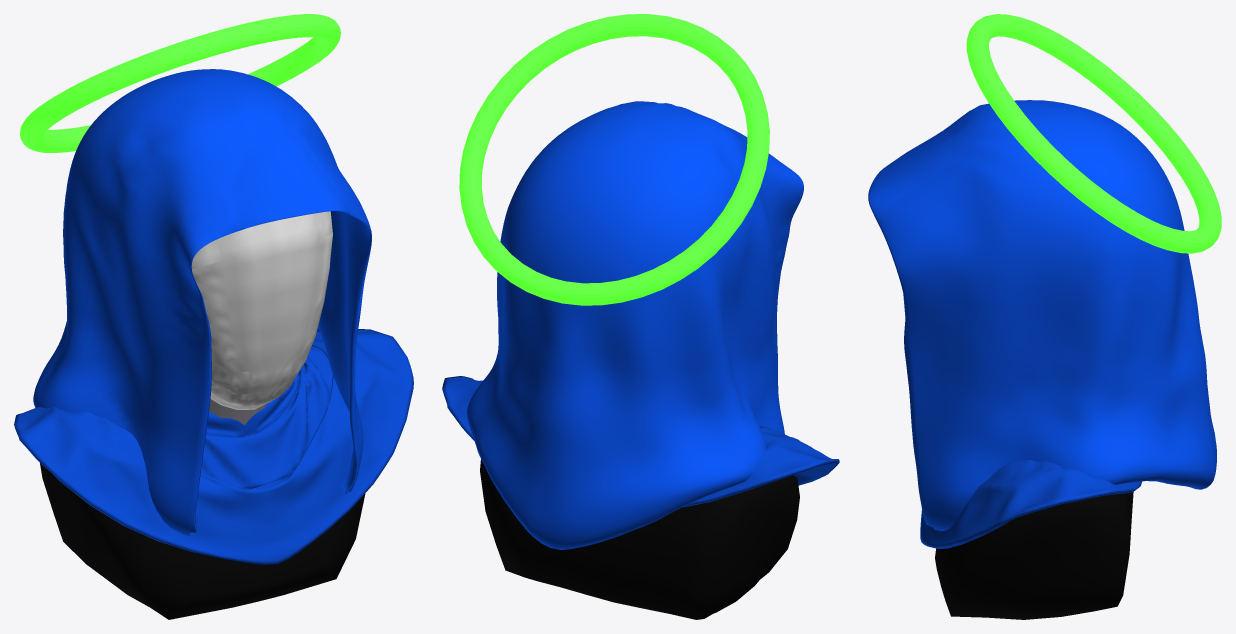
File: framedOurLady.glb
3 views of the same model, side by side, from view 1: azimuth 30°, elevation 25°; view 2: azimuth 150°, elevation 25°; view 3: azimuth 270°, elevation 25° (orthographic). The views are drawn at different scales.
Parts seen in each view (by area): view 1: headwear, face, bust, Halo, neck; view 2: headwear, bust, Halo; view 3: headwear, bust, Halo.
Boxes of the visible parts, x1,y1,x2,y2 form: headwear: (14,69,413,564); face: (191,211,332,409); bust: (40,463,365,619); Halo: (20,14,340,152); neck: (209,399,266,424); headwear: (442,101,839,549); bust: (480,459,799,619); Halo: (459,14,769,305); headwear: (868,100,1216,548); bust: (935,492,1133,619); Halo: (966,14,1221,253).
Bounding box in the file's own units: 0.0714 × 0.1005 × 0.0592.
